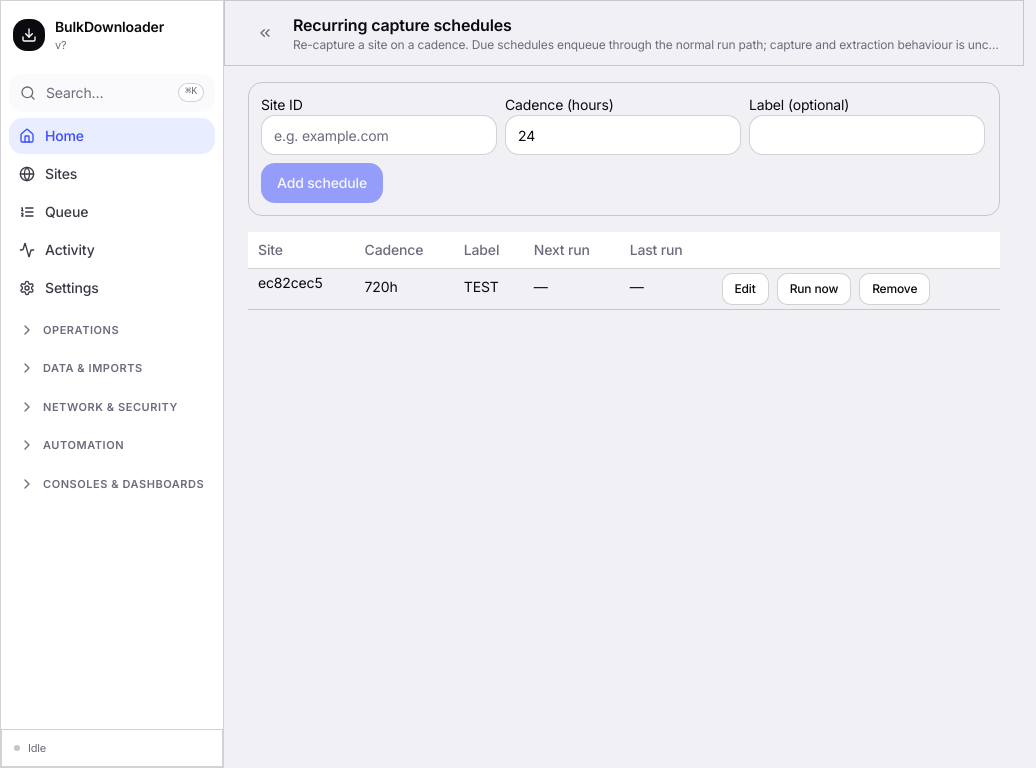
it: Schedules (379) › disables Save for a fractional cadence (F038 r2)
Expected: the text "ec82cec5" is shown, [248,269,355,310]
Click the button "Edit" at (745, 289), box [722,273,769,305]
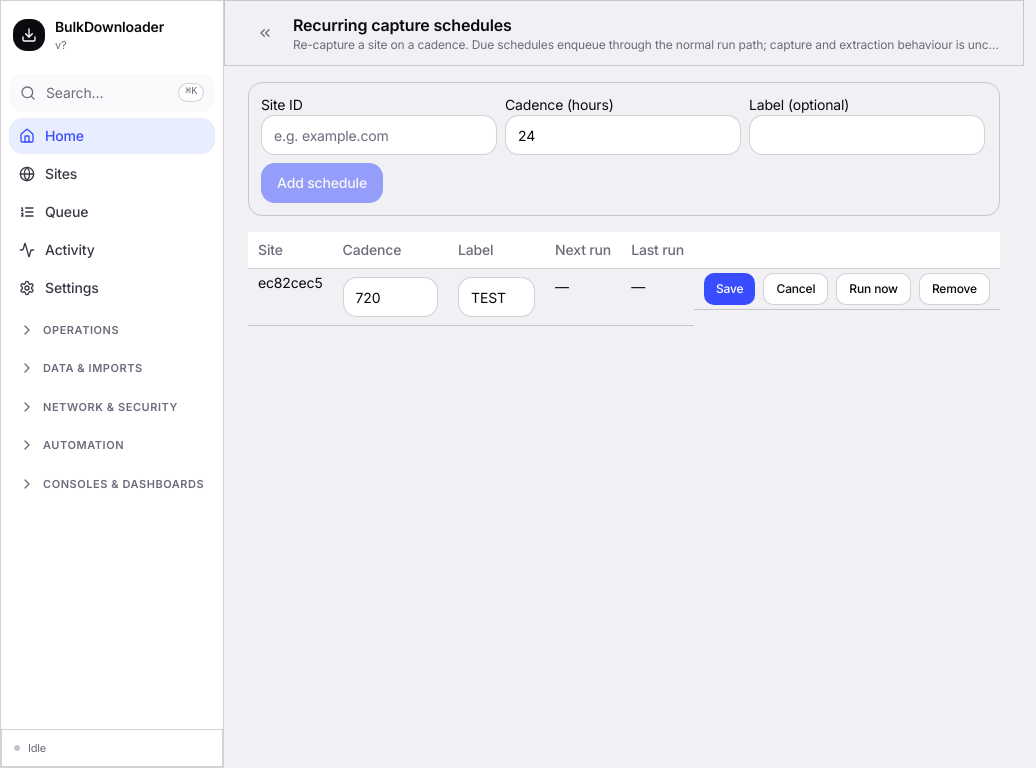
Replace the text in the number field named "edit cadence hours" with "1.5" at (390, 297), box [342,277,438,317]
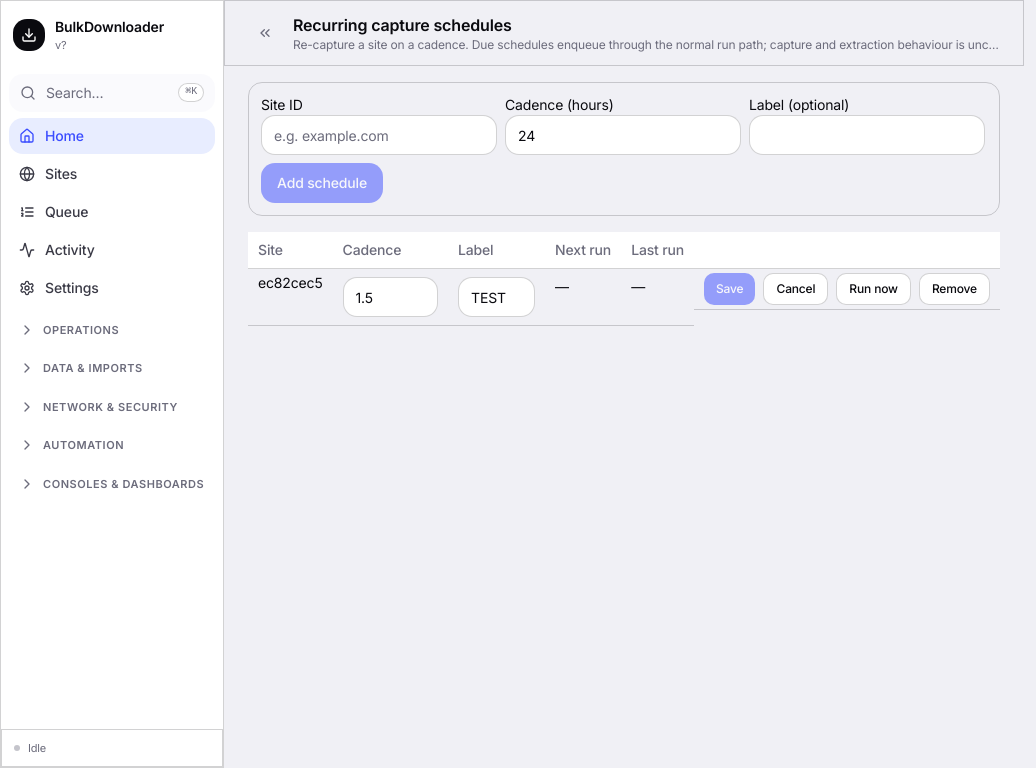
Expected: the button "Save" is disabled, [704,273,756,305]
Replace the text in the number field named "edit cadence hours" with "2" at (390, 297), box [342,277,438,317]
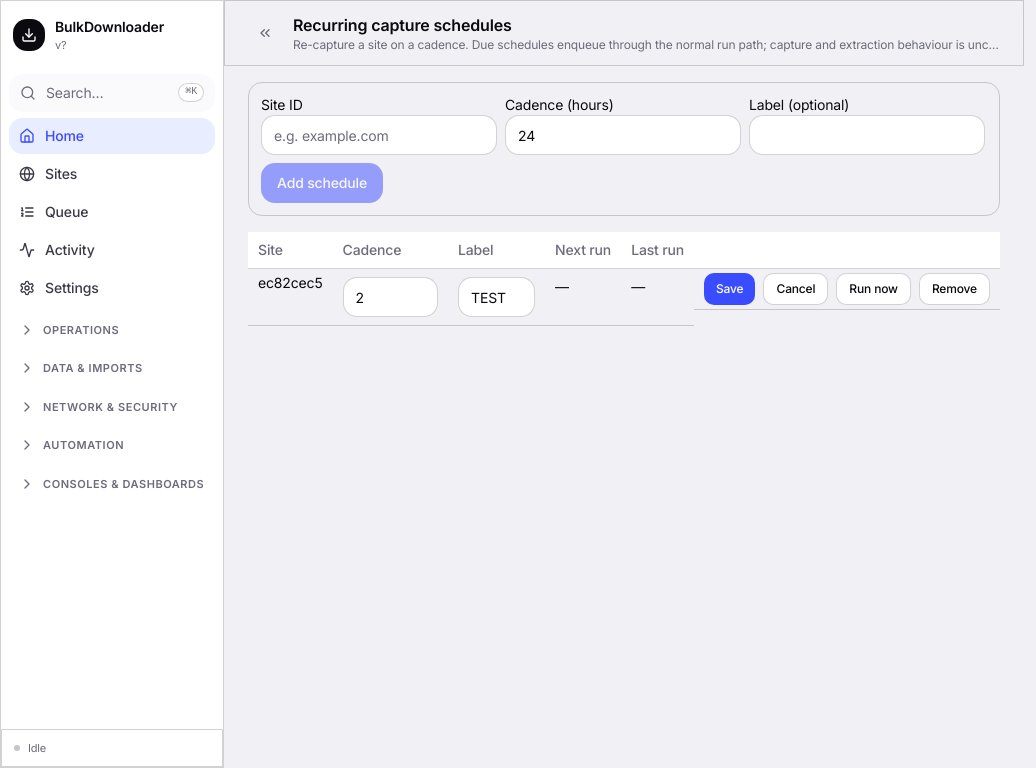
Expected: the button "Save" is enabled, [704,273,756,305]
